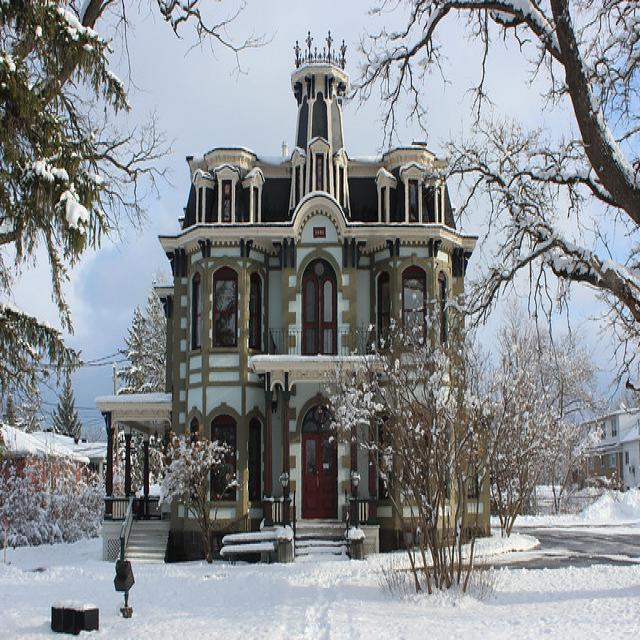Normal_building: (99, 55, 504, 568)
